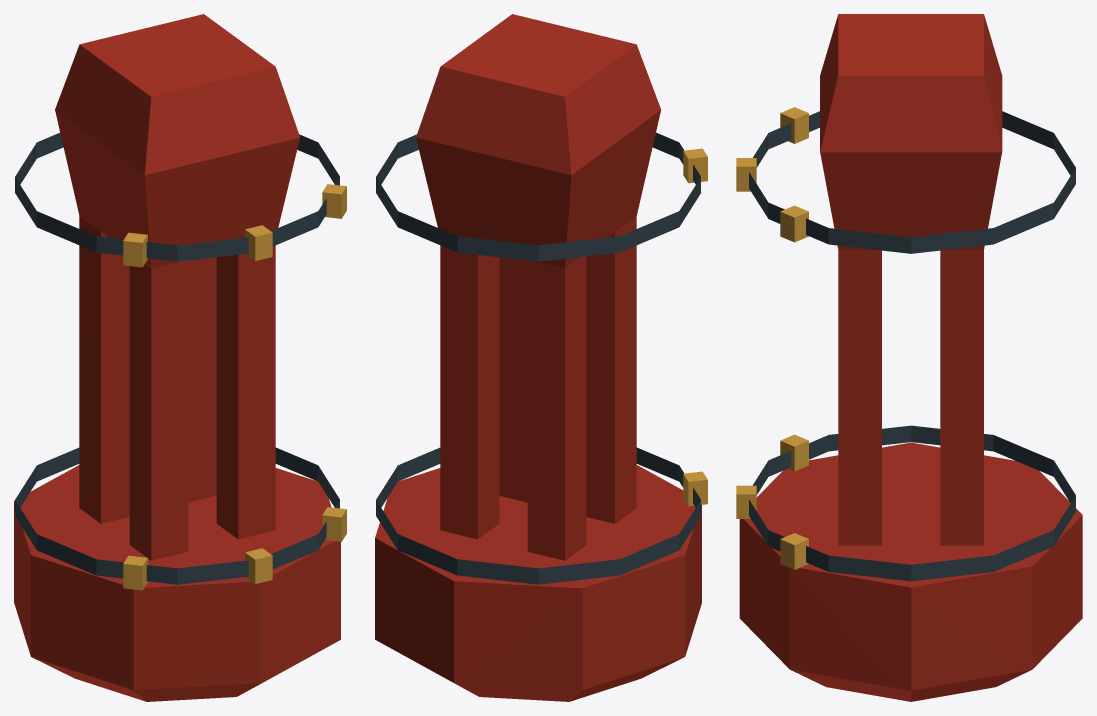
File: signal-buoy-coral.glb
3 views of the same model, side by side, from view 1: azimuth 30°, elevation 25°; view 2: azimuth 150°, elevation 25°; view 3: azimuth 270°, elevation 25° (orthographic).
Visible parts, largest first — view 1: signal-buoy-coral; view 2: signal-buoy-coral; view 3: signal-buoy-coral.
Part boxes in pixels (left/top/right/bottom): signal-buoy-coral: left=14, top=14, right=346, bottom=701; signal-buoy-coral: left=375, top=14, right=707, bottom=701; signal-buoy-coral: left=736, top=14, right=1082, bottom=701.
Size of the model in its own units: 0.79 by 1.54 by 0.7977.
